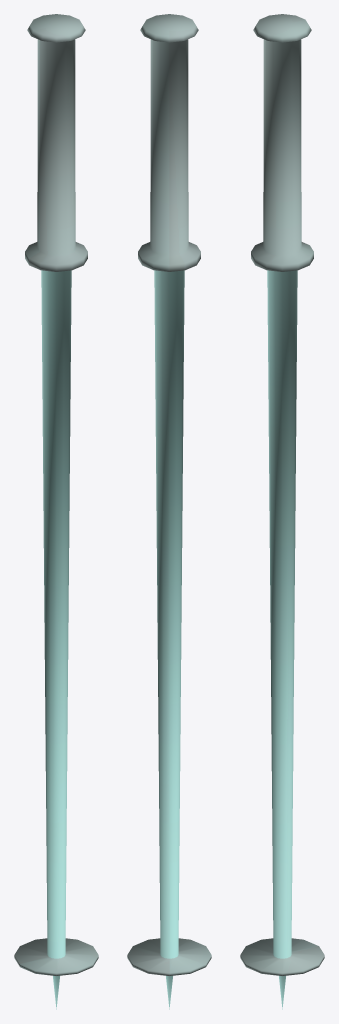
File: ski models ski pole.fbx
3 views of the same model, side by side, from view 1: azimuth 90°, elevation 25°; view 2: azimuth 150°, elevation 25°; view 3: azimuth 270°, elevation 25° (orthographic).
Visible parts, largest first — view 1: pinsku; view 2: pinsku; view 3: pinsku.
Boxes of the visible parts, x1,y1,x2,y2 form: pinsku: [14, 14, 98, 1009]; pinsku: [127, 14, 211, 1009]; pinsku: [240, 14, 324, 1009].
Bounding box in the file's own units: 0.0597 × 0.768 × 0.0597.
1 material, 1 textured.
